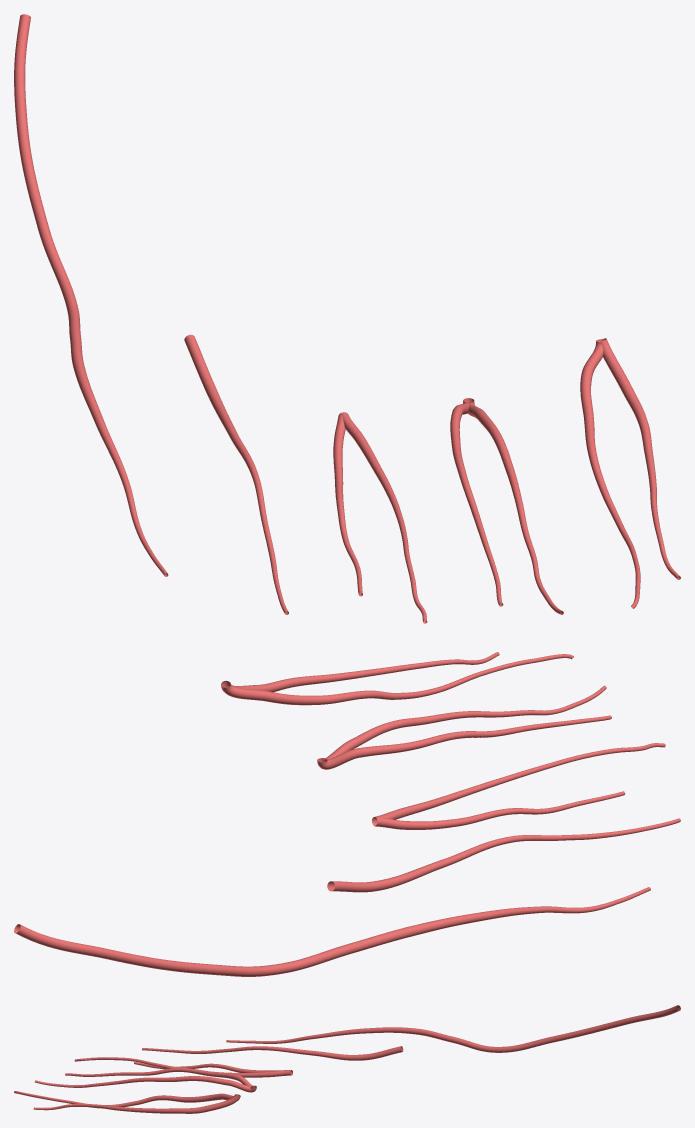
Rendered from Dorsal_digital_arteries_foot_right.glb.
3 renders of one model, top to bottom at view 1: azimuth 30°, elevation 25°; view 2: azimuth 150°, elevation 25°; view 3: azimuth 270°, elevation 25°, orthographic. The views are drawn at different scales.
Parts seen in each view (by area): view 1: Dorsal_digital_arteries_of_foot.r_BezierCurve.218; view 2: Dorsal_digital_arteries_of_foot.r_BezierCurve.218; view 3: Dorsal_digital_arteries_of_foot.r_BezierCurve.218.
Part boxes in pixels (bbox=[...]): Dorsal_digital_arteries_of_foot.r_BezierCurve.218: bbox=[14, 14, 680, 623]; Dorsal_digital_arteries_of_foot.r_BezierCurve.218: bbox=[14, 652, 680, 976]; Dorsal_digital_arteries_of_foot.r_BezierCurve.218: bbox=[14, 1005, 680, 1113].
Bounding box in the file's own units: 0.0631 × 0.0264 × 0.1462.
